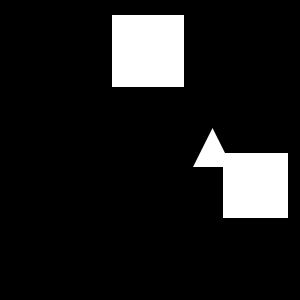circle: (112, 15, 184, 87), (223, 153, 288, 218)
triangle: (193, 128, 232, 167)
